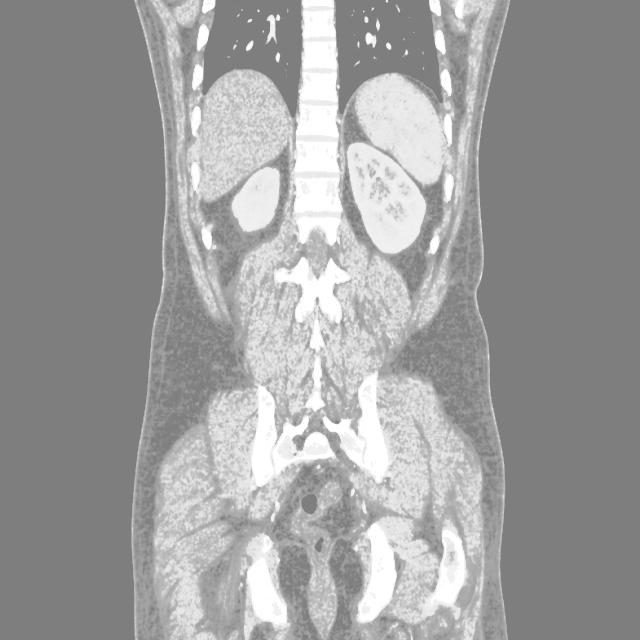NORMAL: (122, 47, 538, 478)
